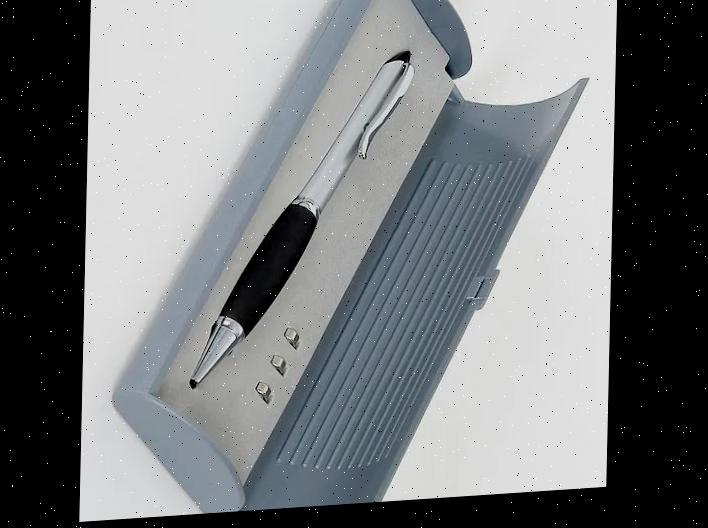pen-pencil: (189, 53, 413, 389)
